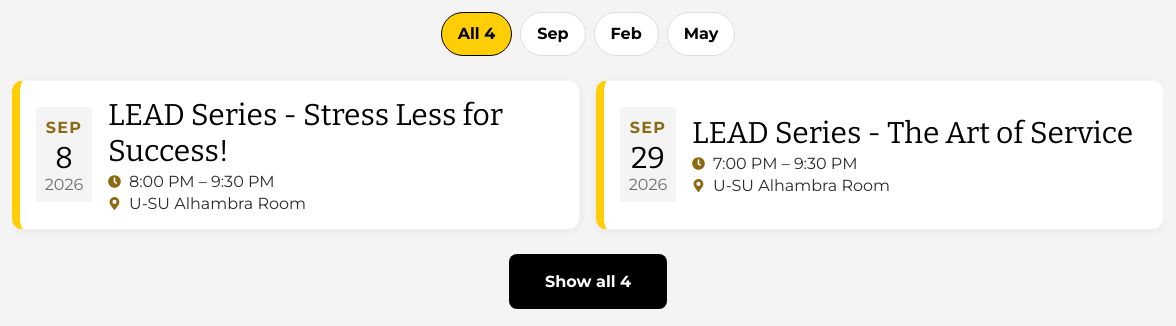
ImagelessEventsGrid › with a month filter › counts the cap against the filtered events
The image size is (1176, 326).
Expected: the button "Show all 4" is shown, [509, 254, 667, 309]
Click the button with aria-label "September 2026" at (553, 34), box [520, 12, 586, 56]
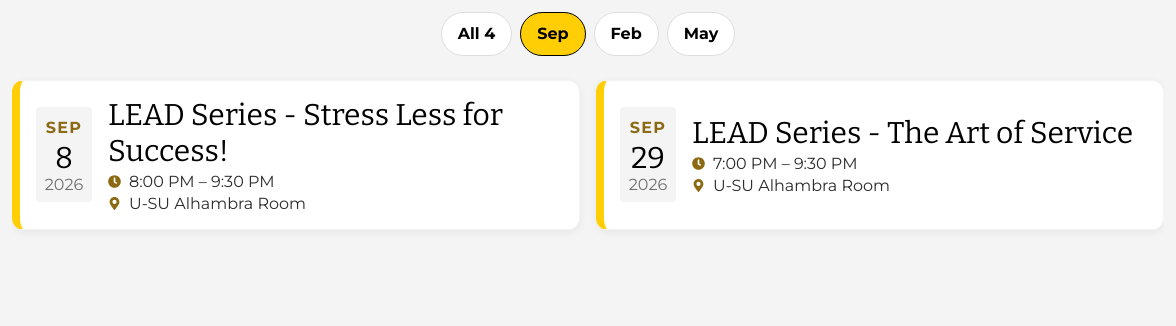
Expected: the button "LEAD Series - The Art of Service" is shown, [596, 80, 1164, 230]
Result: the button "Show all" is gone
